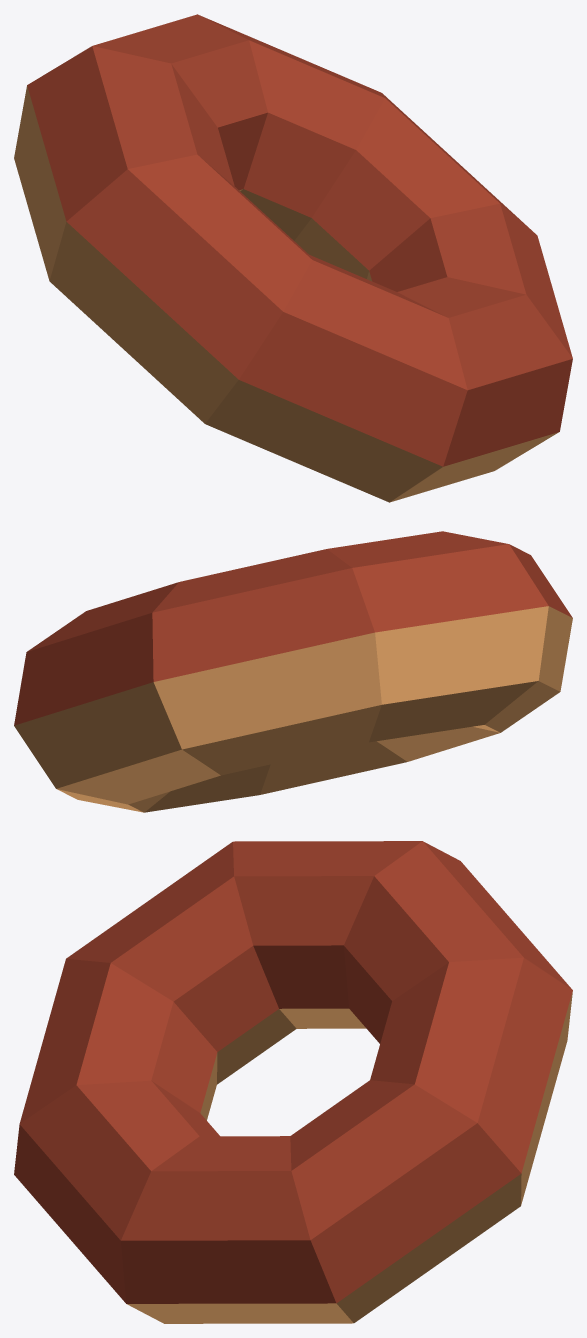
The model's file is donuts_02.fbx.
The picture shows the model from 3 angles, top to bottom: view 1: azimuth 30°, elevation 25°; view 2: azimuth 150°, elevation 25°; view 3: azimuth 270°, elevation 25°; orthographic projection. The views are drawn at different scales.
Visible parts, largest first — view 1: donuts_02; view 2: donuts_02; view 3: donuts_02.
Boxes of the visible parts, x1,y1,x2,y2 form: donuts_02: (14, 14, 572, 502); donuts_02: (14, 531, 572, 812); donuts_02: (14, 841, 572, 1323).
Bounding box in the file's own units: 13.76 × 10.09 × 14.1.
1 material, 1 textured.
